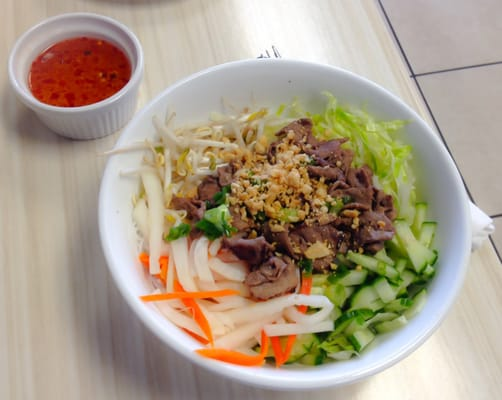sushi: (97, 50, 481, 377), (7, 13, 145, 141)
